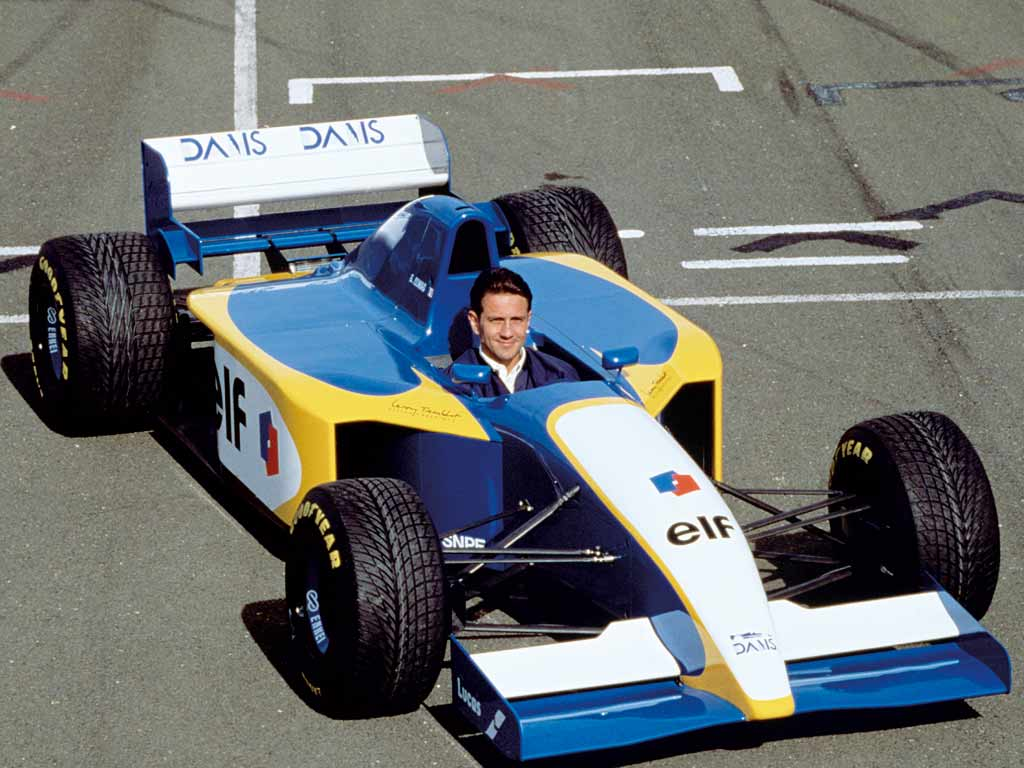f1_car: (21, 107, 1020, 766)
